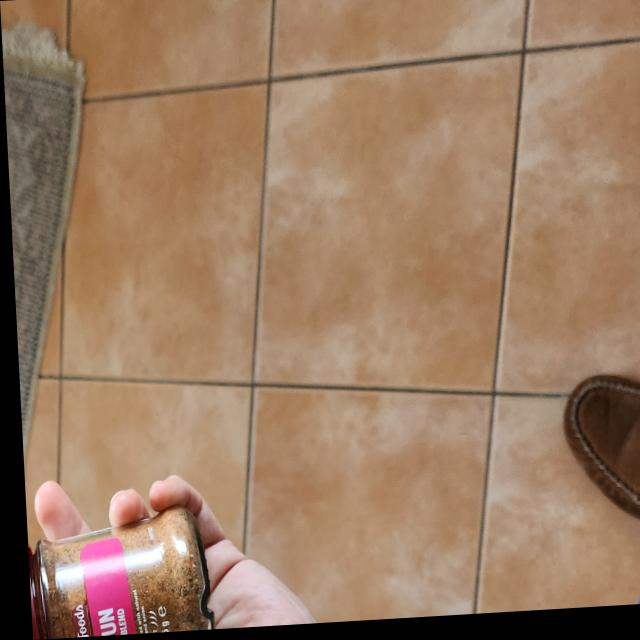cajun: (21, 504, 207, 640)
